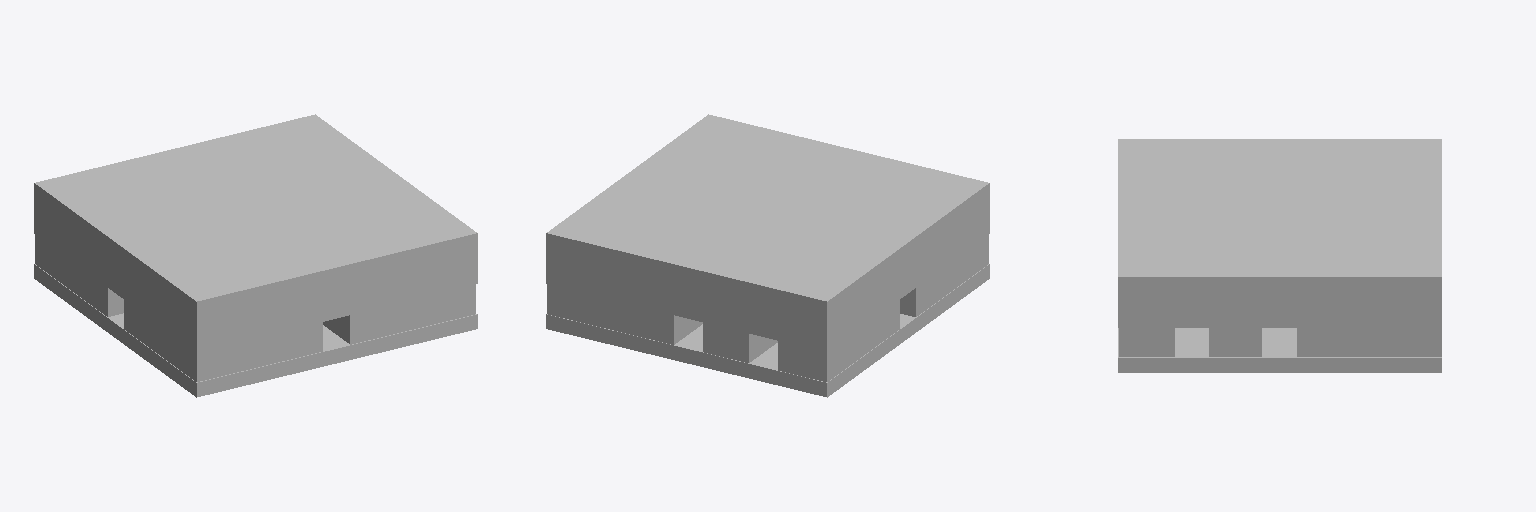
File: corridors.obj
The picture shows the model from 3 angles: view 1: azimuth 30°, elevation 25°; view 2: azimuth 150°, elevation 25°; view 3: azimuth 270°, elevation 25°; orthographic projection.
Parts seen in each view (by area): view 1: corridors; view 2: corridors; view 3: corridors.
Boxes of the visible parts, <box> form: corridors: <box>34,114,477,397</box>; corridors: <box>546,114,989,397</box>; corridors: <box>1118,139,1441,372</box>.
Size of the model in its own units: 40 by 13.05 by 40.